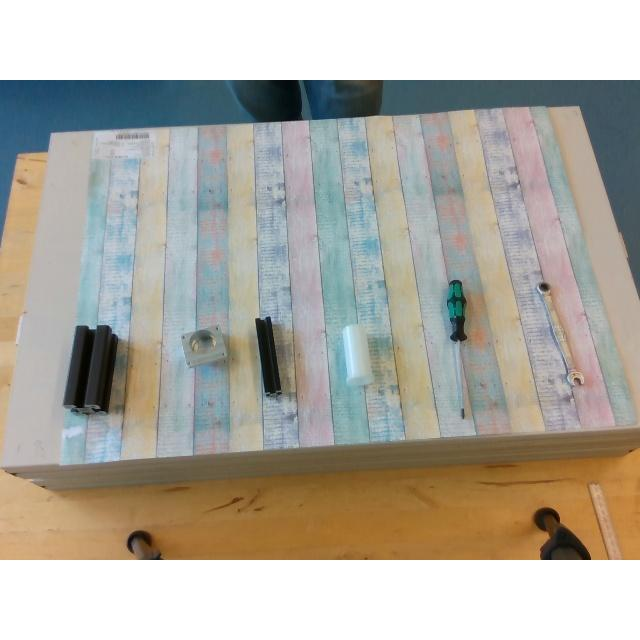F20_20_B: (253, 315, 284, 399)
S40_40_B: (64, 325, 116, 411)
Screwdriver: (446, 280, 470, 420)
Spacer: (342, 326, 371, 382)
Wrench: (536, 281, 588, 387)
